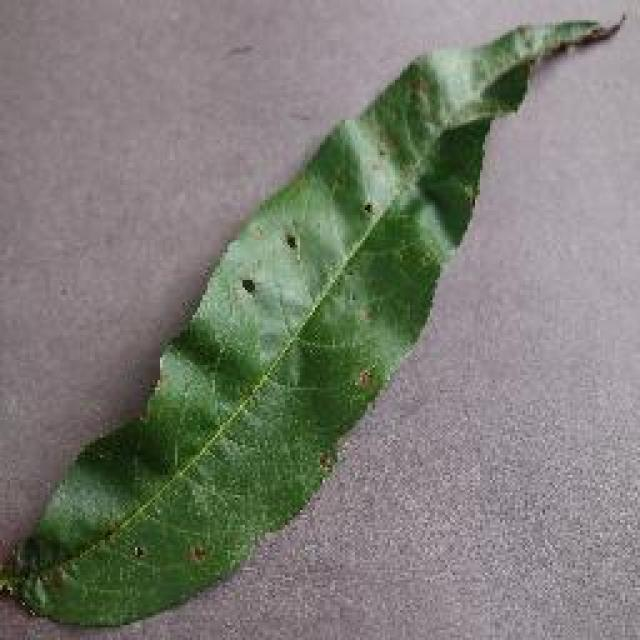Peach_Bacterial_Spot: (168, 142, 425, 332)
